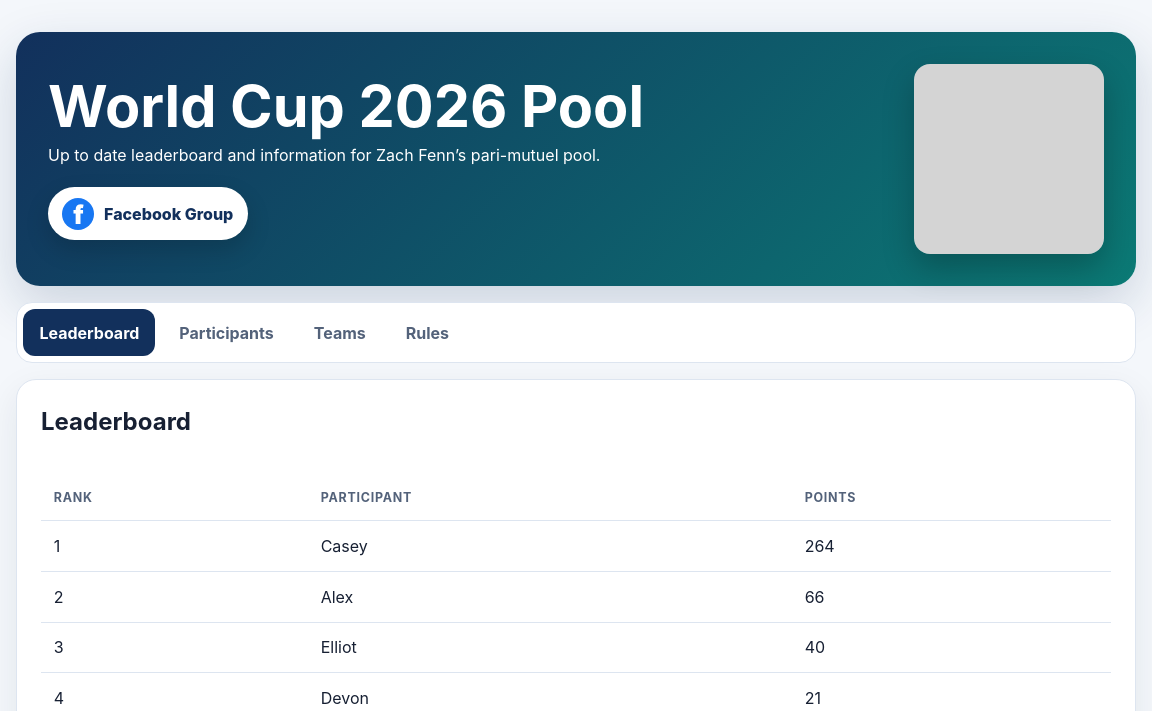
it: App › navigates between the four dashboard pages
The image size is (1152, 711).
Step 1. Click the button "Participants" → click(227, 333), box top-left (163, 309), bottom-right (290, 356)
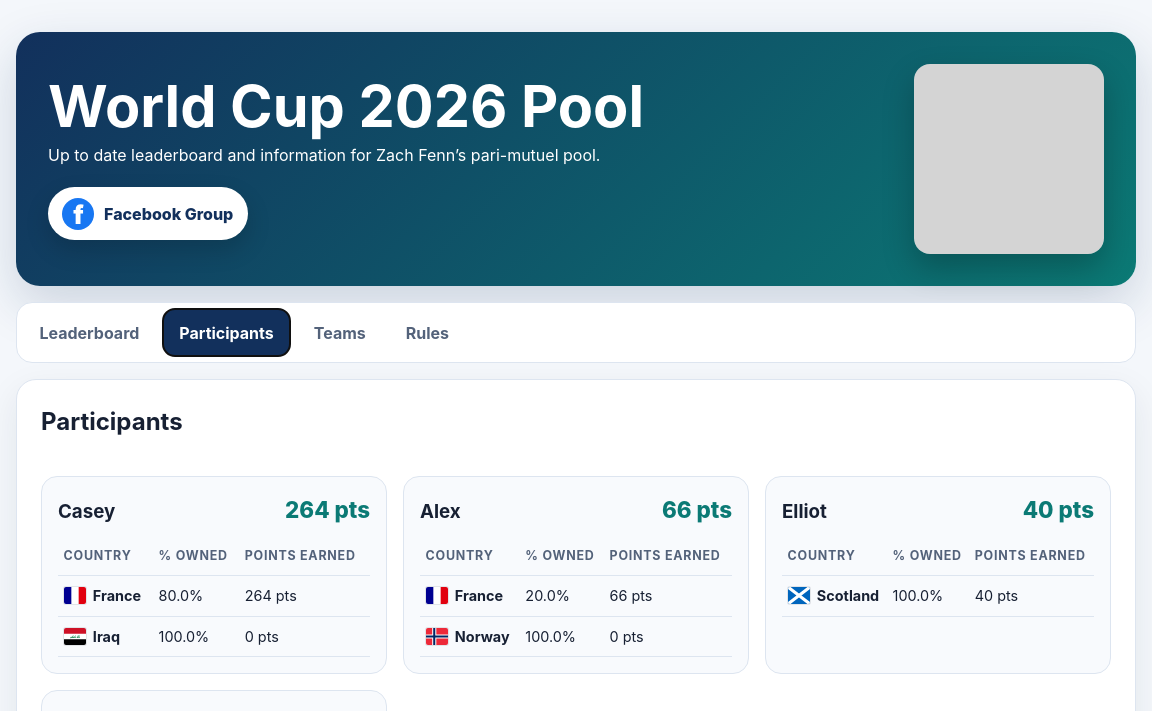
expect the heading "Participants" is shown: met, box top-left (41, 404), bottom-right (183, 440)
expect the text "264 pts" is shown: met, box top-left (285, 493), bottom-right (370, 527)
expect the element "Casey" is shown: met, box top-left (41, 476), bottom-right (387, 674)
Step 2. Click the button "Teams" → click(340, 333), box top-left (298, 309), bottom-right (382, 356)
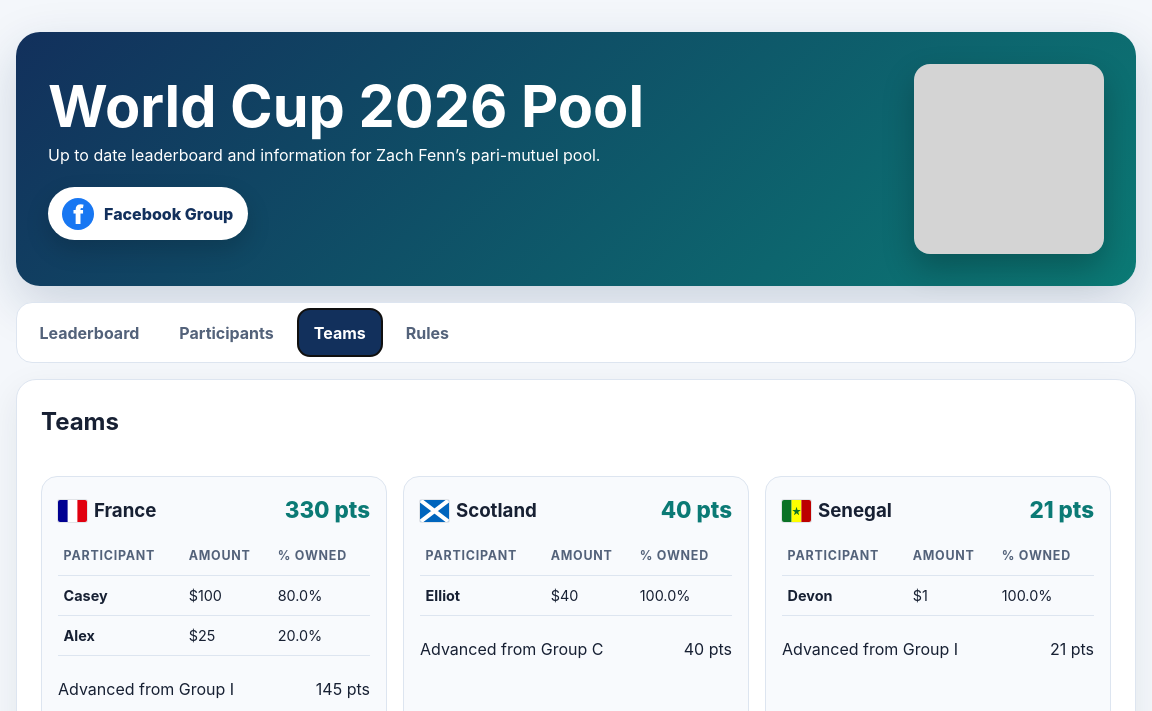
expect the heading "Teams" is shown: met, box top-left (41, 404), bottom-right (119, 440)
Step 3. Click the button "Rules" → click(427, 333), box top-left (390, 309), bottom-right (465, 356)
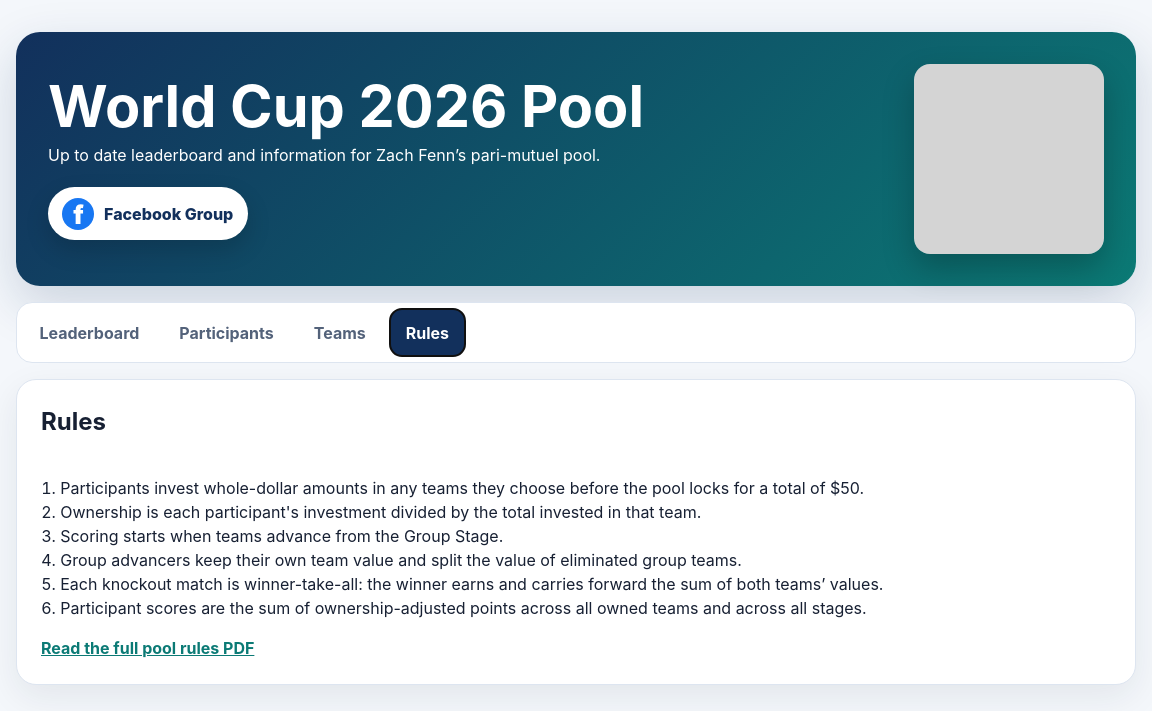
expect the heading "Rules" is shown: met, box top-left (41, 404), bottom-right (106, 440)
Step 4. Click the button "Leaderboard" → click(89, 333), box top-left (23, 309), bottom-right (155, 356)
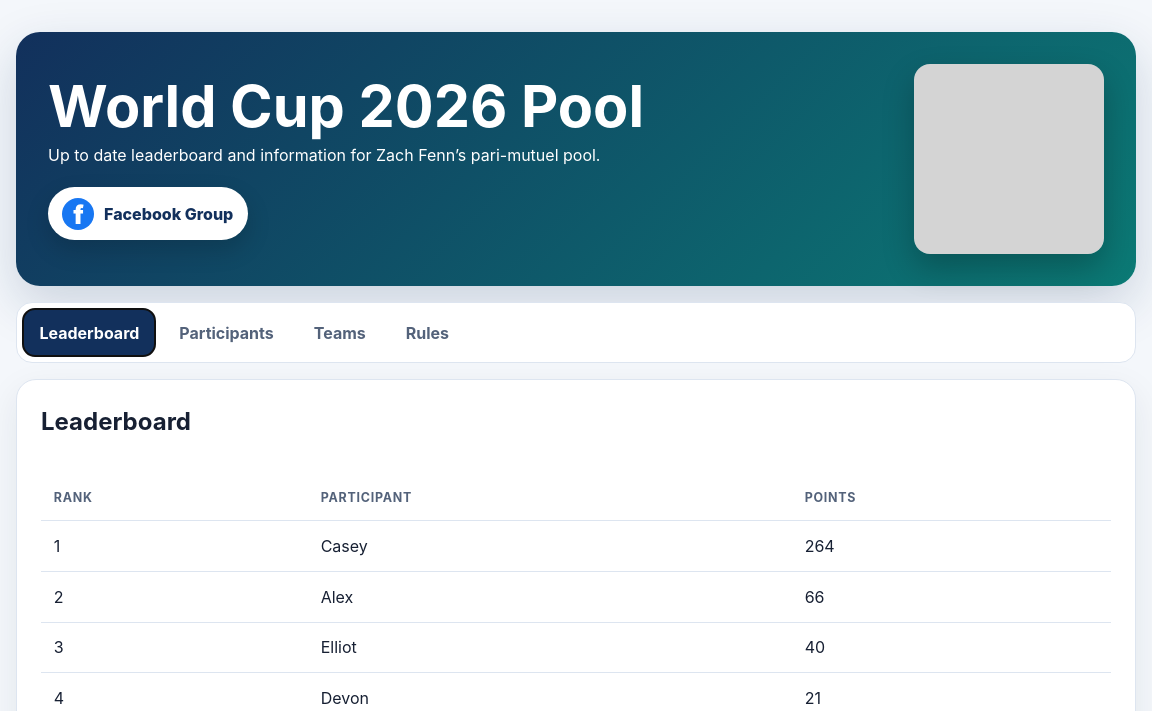
expect the heading "Leaderboard" is shown: met, box top-left (41, 404), bottom-right (191, 440)
